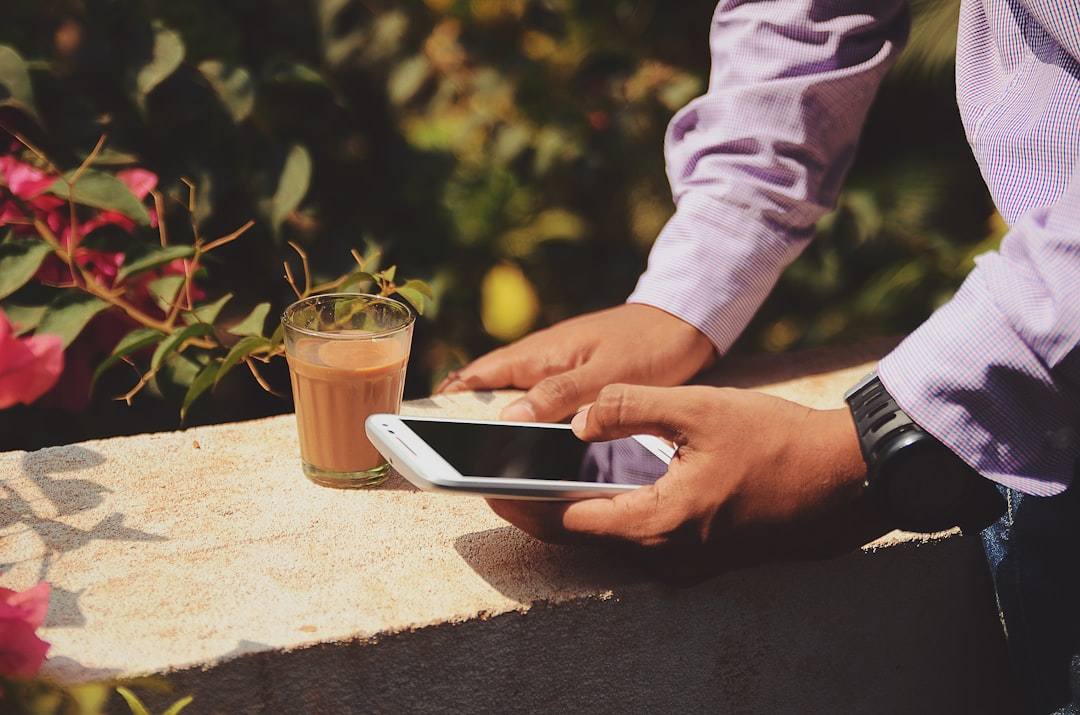phone: (359, 411, 694, 503)
